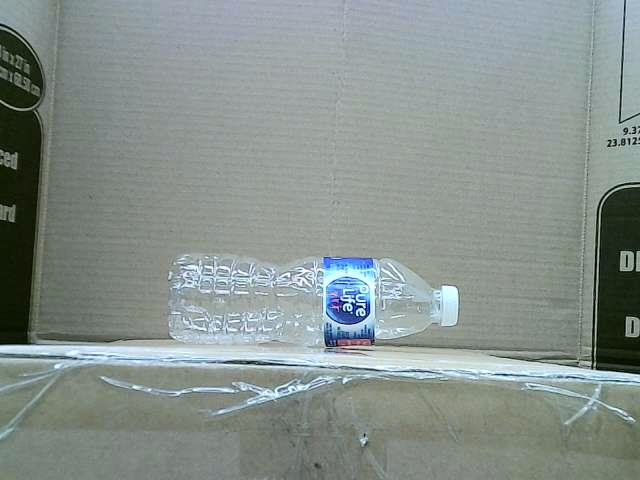WaterBottle: (166, 252, 458, 351)
